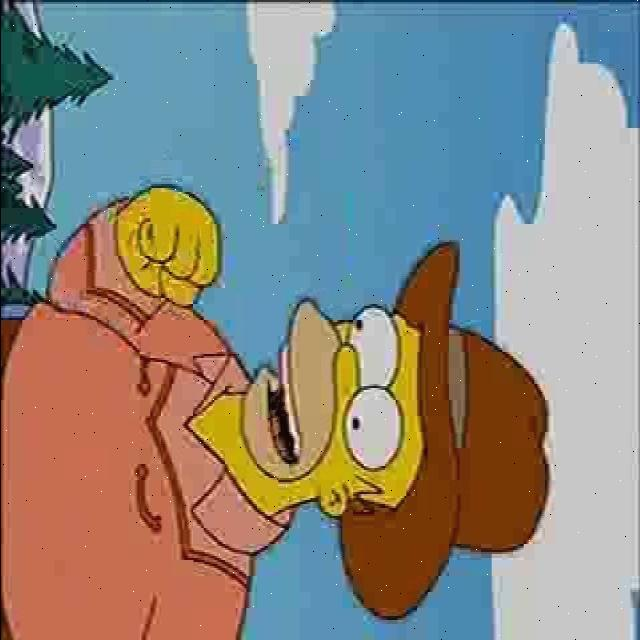Homer Simpson: (222, 290, 424, 526)
